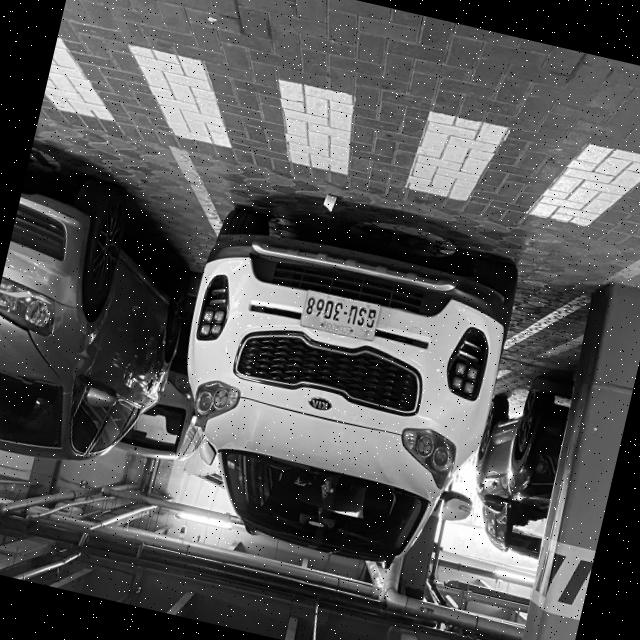Placa: (300, 290, 379, 339)
